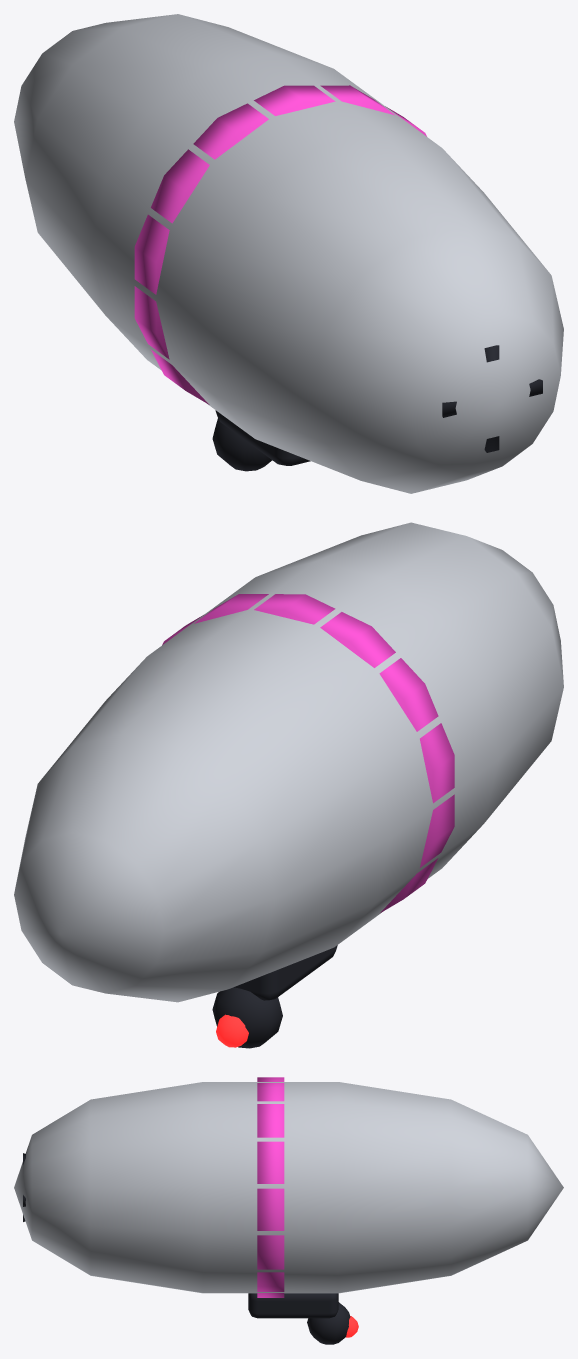
The model's file is x_sat_blimp.glb.
The picture shows the model from 3 angles, top to bottom: view 1: azimuth 30°, elevation 25°; view 2: azimuth 150°, elevation 25°; view 3: azimuth 270°, elevation 25°; orthographic projection. The views are drawn at different scales.
Visible parts, largest first — view 1: blimp; view 2: blimp; view 3: blimp.
Part boxes in pixels (x1=…): blimp: x1=14, y1=14, x2=563, y2=493; blimp: x1=14, y1=522, x2=563, y2=1048; blimp: x1=14, y1=1077, x2=563, y2=1344.
Size of the model in its own units: 0.48 by 0.625 by 1.22.
